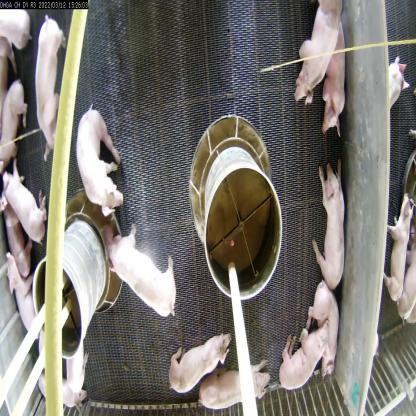Pig: (108, 226, 177, 322), (74, 108, 126, 213), (31, 18, 65, 157), (0, 159, 53, 246), (275, 314, 332, 393), (295, 0, 337, 103), (315, 157, 349, 281), (203, 359, 268, 415), (173, 332, 228, 398), (324, 27, 353, 134), (311, 284, 340, 384), (1, 261, 35, 341), (53, 345, 92, 411)
